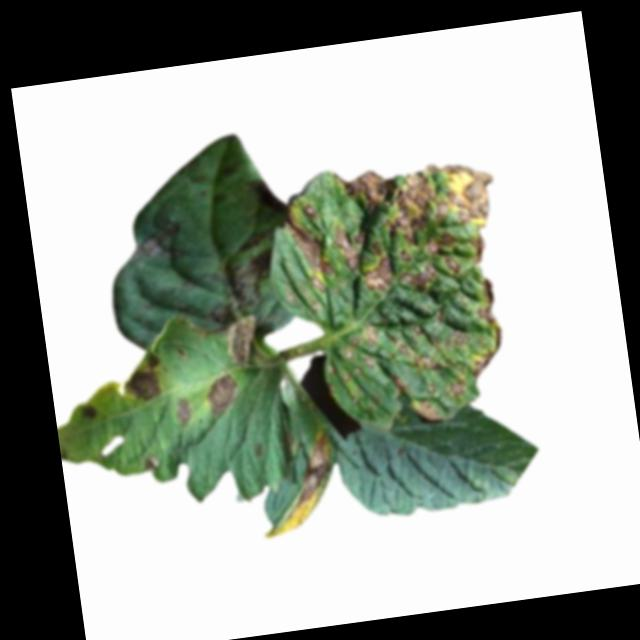Early_blight: (267, 147, 526, 440), (250, 434, 342, 541), (210, 247, 279, 314), (119, 221, 185, 267), (119, 353, 168, 406), (221, 311, 262, 370), (199, 372, 239, 416), (254, 179, 286, 221), (173, 397, 195, 429), (75, 400, 100, 426), (141, 453, 163, 475)
